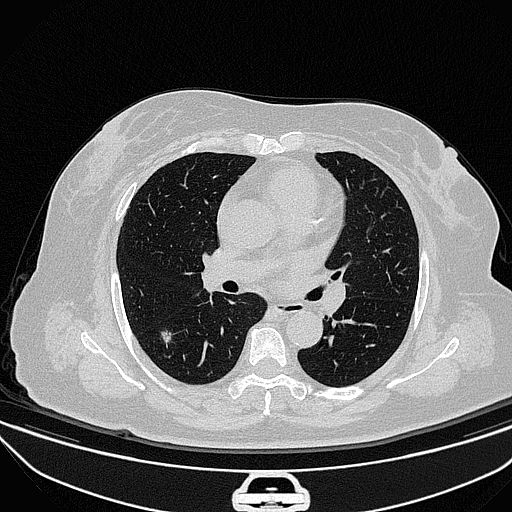nodule: (159, 329, 172, 343)
